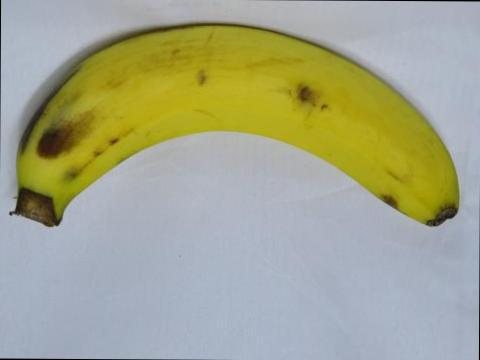freshripe: (1, 10, 471, 244)
